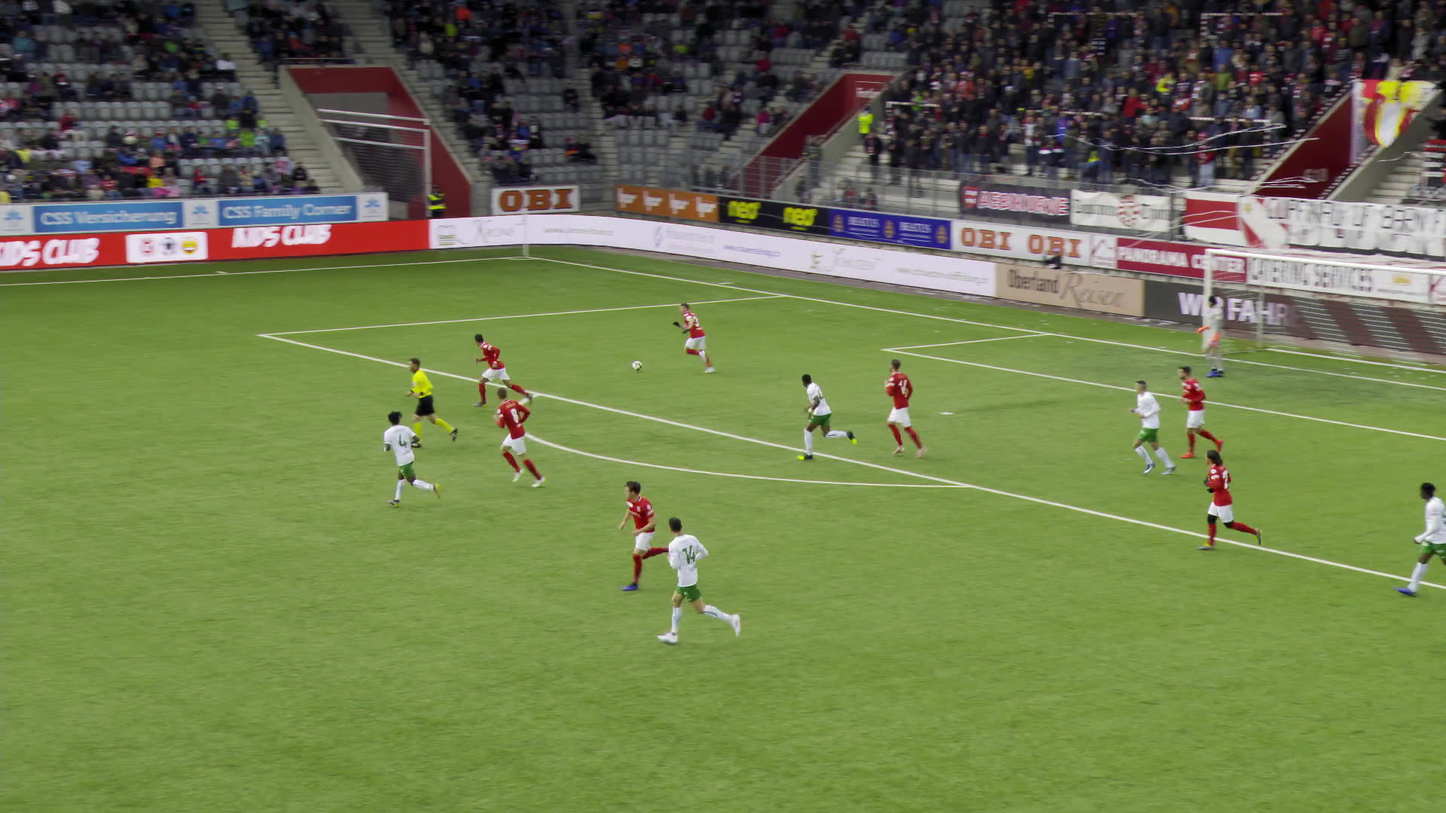ball: (633, 358, 647, 371)
player: (656, 517, 739, 645), (1191, 447, 1261, 550), (1385, 480, 1444, 597), (615, 477, 670, 587), (381, 410, 438, 510), (794, 373, 856, 459), (487, 388, 538, 488), (877, 361, 922, 458), (1170, 364, 1215, 458), (1127, 378, 1171, 474), (471, 333, 526, 406), (673, 301, 712, 373), (1190, 294, 1222, 377)
referee: (401, 355, 453, 445)
